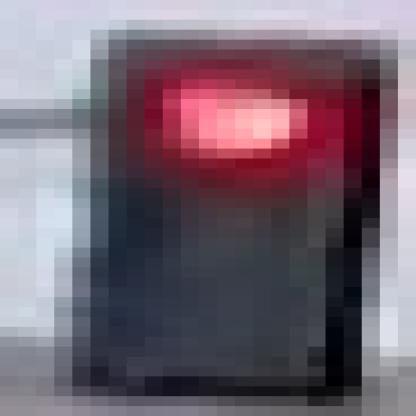Red Light: (98, 40, 362, 391)
